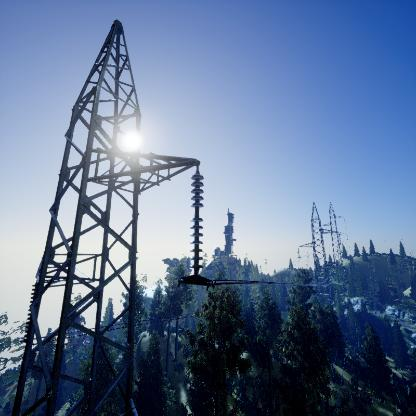insulator: (187, 173, 205, 272)
tower: (294, 201, 342, 308)
